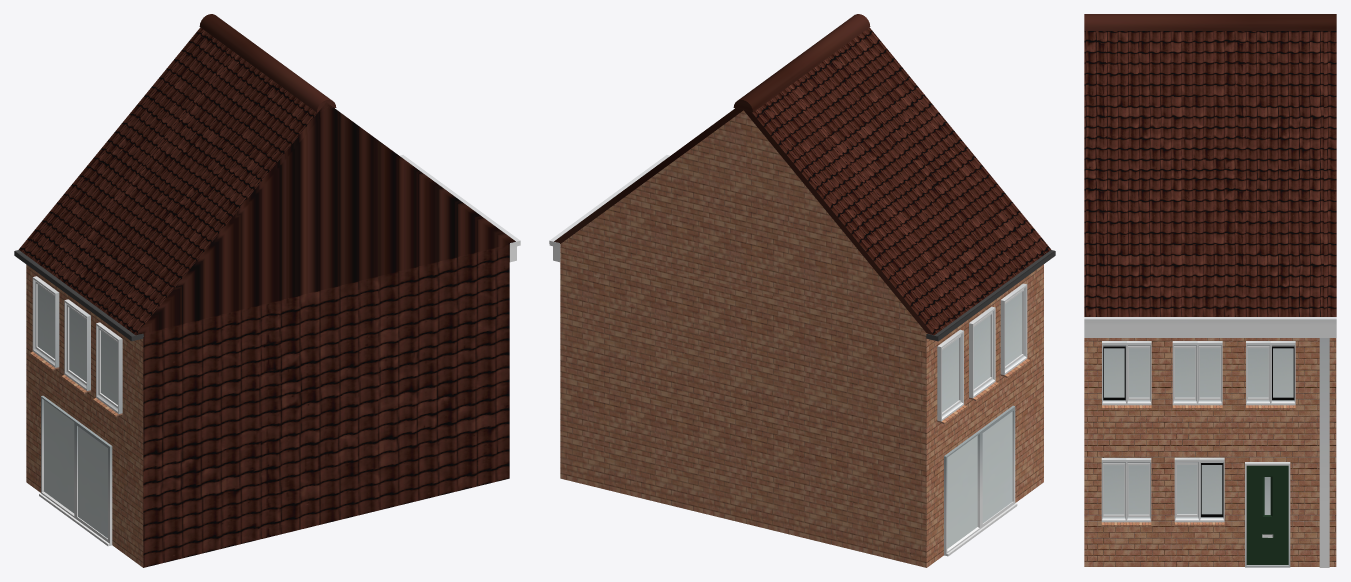
File: It_Bynt_18.fbx
The picture shows the model from 3 angles, left to right: view 1: azimuth 30°, elevation 25°; view 2: azimuth 150°, elevation 25°; view 3: azimuth 270°, elevation 25°; orthographic projection. The views are drawn at different scales.
Visible parts, largest first — view 1: It_Bynt_18; view 2: It_Bynt_18; view 3: It_Bynt_18.
Boxes of the visible parts, <box> form: It_Bynt_18: <box>14,14,520,567</box>; It_Bynt_18: <box>549,14,1055,567</box>; It_Bynt_18: <box>1084,14,1336,567</box>.
Bounding box in the file's own units: 1006 × 1047 × 526.
